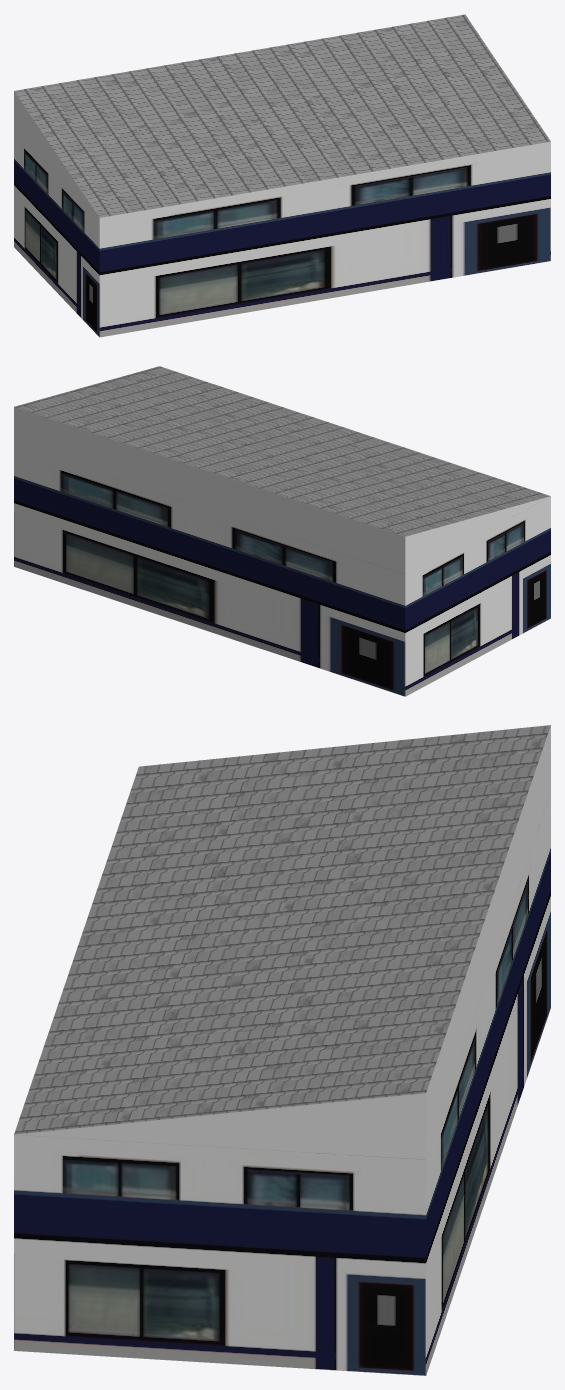
3 renders of one model, top to bottom at view 1: azimuth 30°, elevation 25°; view 2: azimuth 150°, elevation 25°; view 3: azimuth 270°, elevation 25°, orthographic. The views are drawn at different scales.
Parts seen in each view (by area): view 1: CityEngineMaterial_2_m, CityEngineMaterial_4_m, CityEngineMaterial_3_m; view 2: CityEngineMaterial_2_m, CityEngineMaterial_4_m, CityEngineMaterial_3_m; view 3: CityEngineMaterial_4_m, CityEngineMaterial_2_m, CityEngineMaterial_3_m.
Boxes of the visible parts, <box> form: CityEngineMaterial_2_m: <box>14,128,550,337</box>; CityEngineMaterial_4_m: <box>14,14,550,217</box>; CityEngineMaterial_3_m: <box>14,91,98,216</box>; CityEngineMaterial_2_m: <box>14,444,550,696</box>; CityEngineMaterial_4_m: <box>14,366,550,536</box>; CityEngineMaterial_3_m: <box>14,407,549,574</box>; CityEngineMaterial_4_m: <box>14,725,550,1134</box>; CityEngineMaterial_2_m: <box>14,792,550,1375</box>; CityEngineMaterial_3_m: <box>15,726,550,1159</box>.
Bounding box in the file's own units: 27.24 × 9.14 × 15.73.
